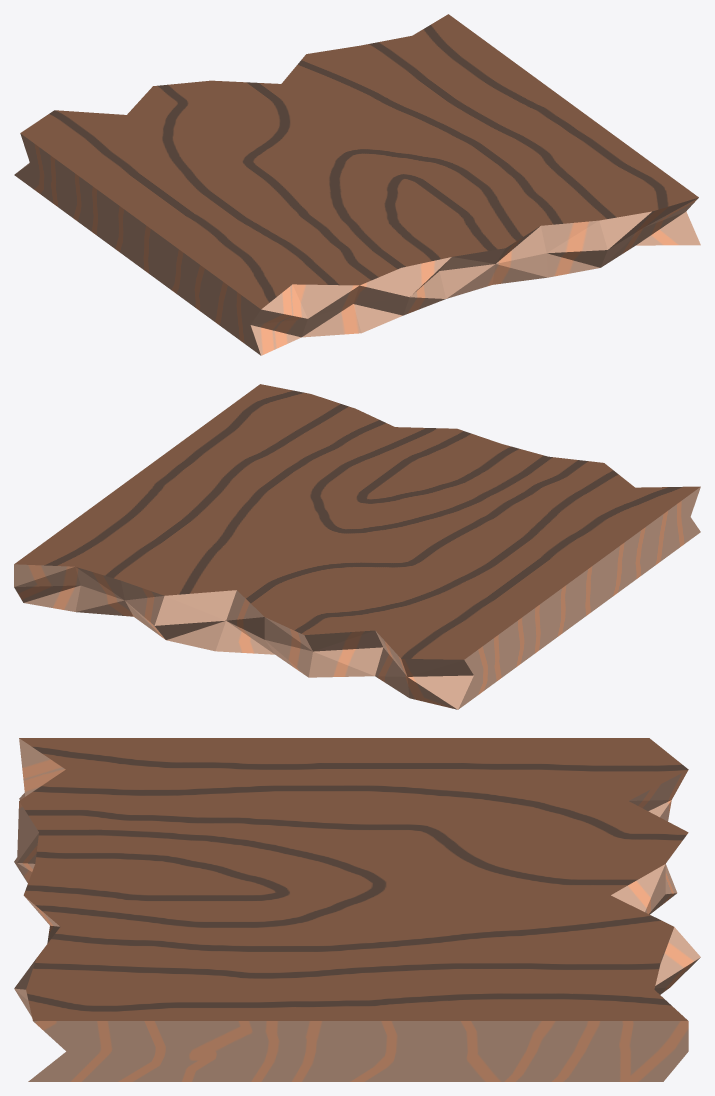
File: FloorRE.obj
3 renders of one model, top to bottom at view 1: azimuth 30°, elevation 25°; view 2: azimuth 150°, elevation 25°; view 3: azimuth 270°, elevation 25°, orthographic. The views are drawn at different scales.
Visible parts, largest first — view 1: Cube; view 2: Cube; view 3: Cube.
Boxes of the visible parts, box(x1,y1,x2,y2) form: Cube: box(14, 14, 700, 355); Cube: box(14, 384, 700, 709); Cube: box(14, 738, 700, 1081).
Bounding box in the file's own units: 1 × 0.1 × 1.03.
Materials: 1 (1 with a texture image).
